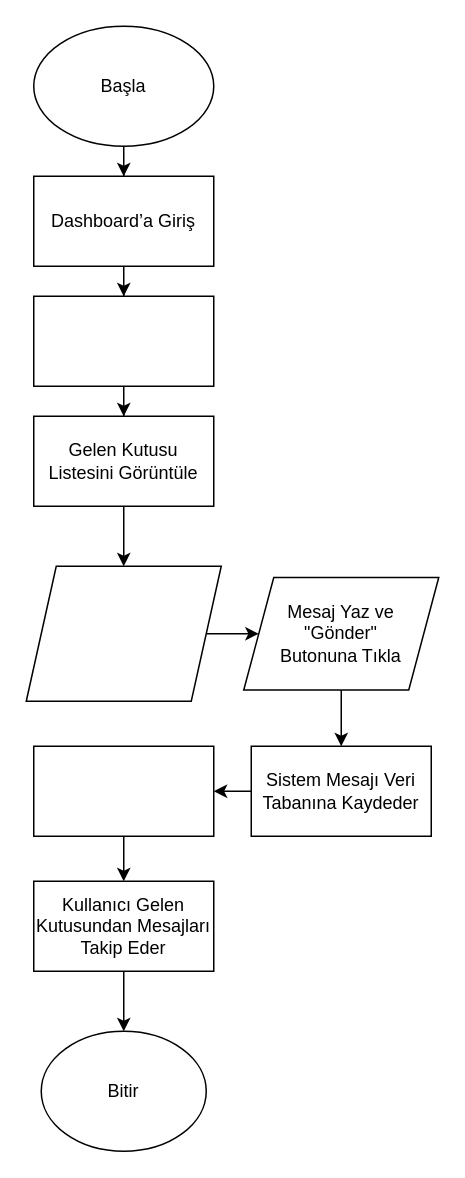
Image size: 465x1178. Some labels were removed from this diagram. The centre of each missing label's shape, as x and y in pixels:
"Mesajlar" Sekmesine Git: the point at 123,340
Karşı Tarafa Bildirim veya E-posta Gönderilir: the point at 123,790
Yeni Mesaj Göndermek İçin Kullanıcı Seç veya Gelen Mesaja Yanıt Ver: the point at 123,633
